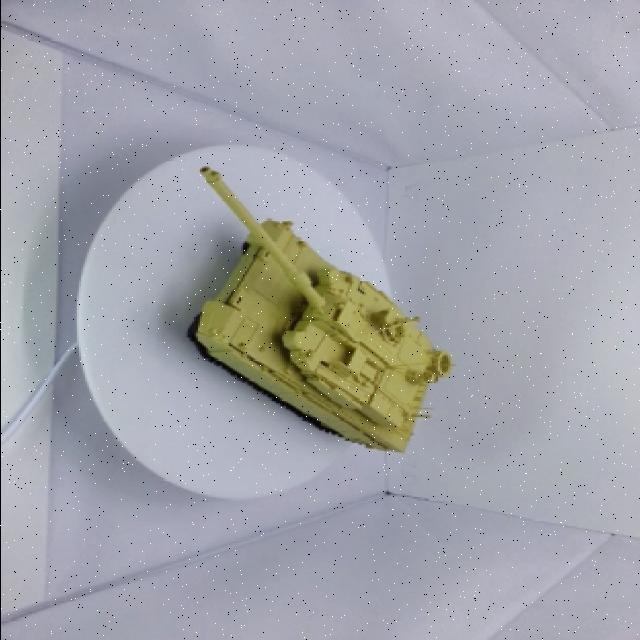korea tank: (152, 160, 482, 471)
